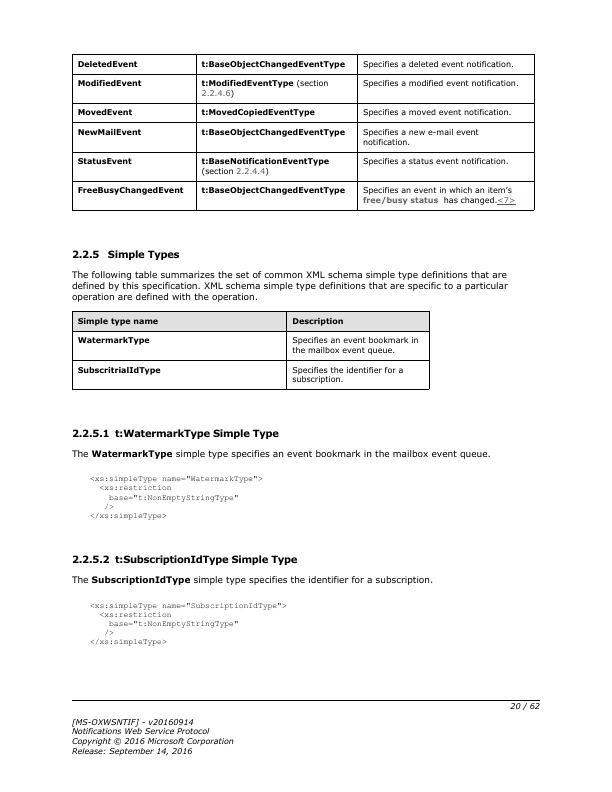table: (70, 50, 538, 215), (72, 310, 436, 394)
text: (70, 268, 510, 303), (83, 597, 292, 648), (82, 473, 266, 523), (68, 715, 236, 760), (68, 446, 492, 460), (66, 573, 436, 587), (66, 553, 299, 569), (71, 426, 278, 441), (67, 246, 183, 261)
